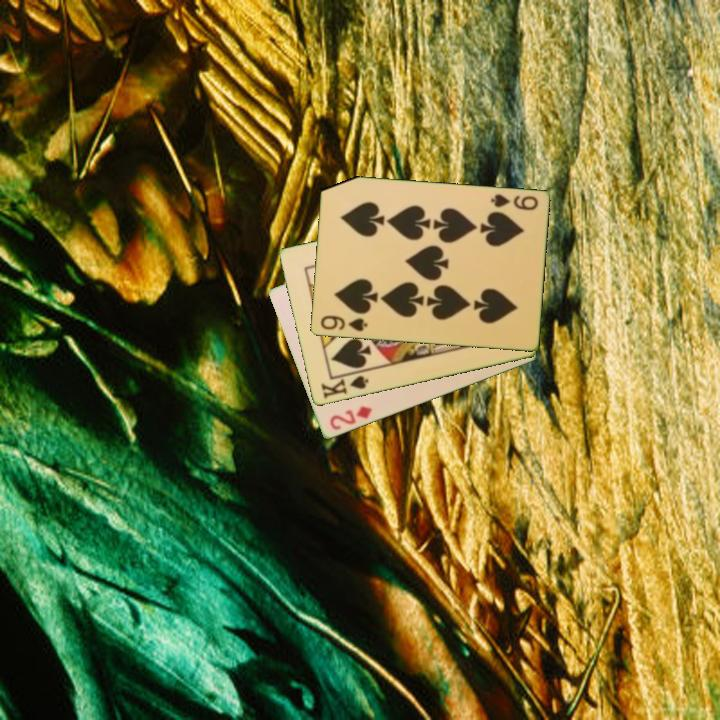2d: (326, 403, 375, 433)
9s: (317, 312, 370, 335), (487, 191, 540, 213)
Ks: (317, 368, 371, 402)
